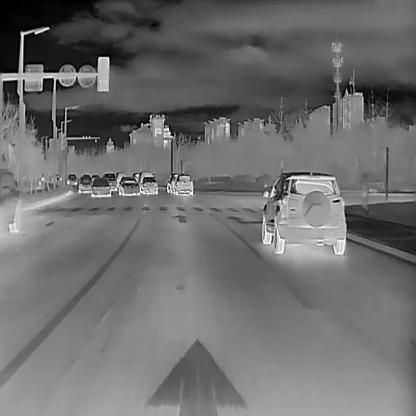car: (261, 171, 346, 254), (0, 167, 20, 233), (118, 175, 139, 195), (174, 174, 193, 195), (90, 177, 110, 196), (140, 175, 157, 193), (167, 172, 182, 192), (77, 175, 91, 193), (102, 172, 116, 189), (137, 171, 155, 184), (67, 172, 76, 184), (115, 171, 125, 181)
